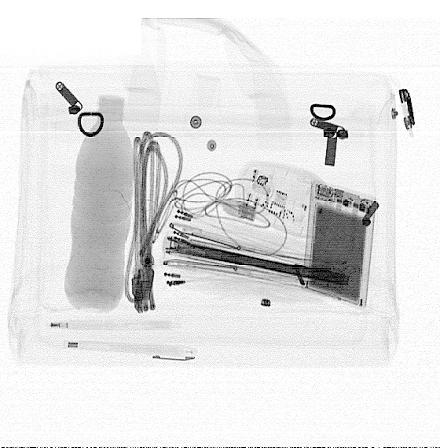Powerbank: (300, 182, 377, 309)
